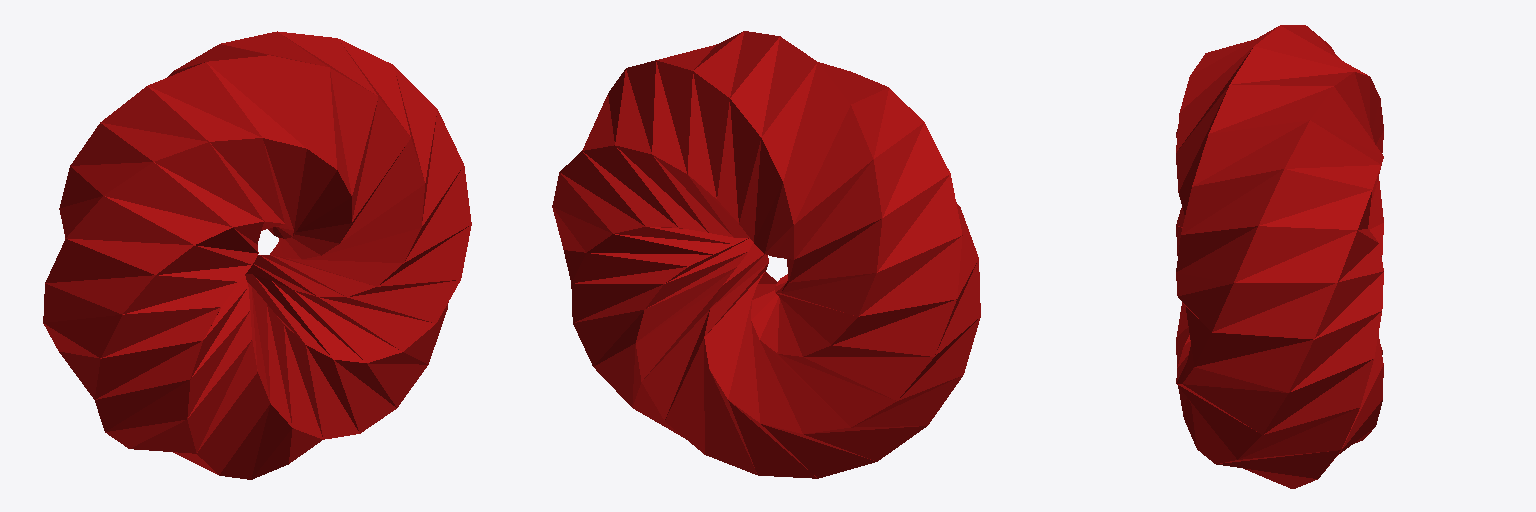
Rendered from wormhole.obj.
3 views of the same model, side by side, from view 1: azimuth 30°, elevation 25°; view 2: azimuth 150°, elevation 25°; view 3: azimuth 270°, elevation 25° (orthographic).
Parts seen in each view (by area): view 1: Torus001; view 2: Torus001; view 3: Torus001.
Boxes of the visible parts, <box> form: Torus001: <box>43,31,471,479</box>; Torus001: <box>552,31,980,478</box>; Torus001: <box>1176,25,1383,488</box>.
Bounding box in the file's own units: 1.77 × 1.78 × 0.7994.